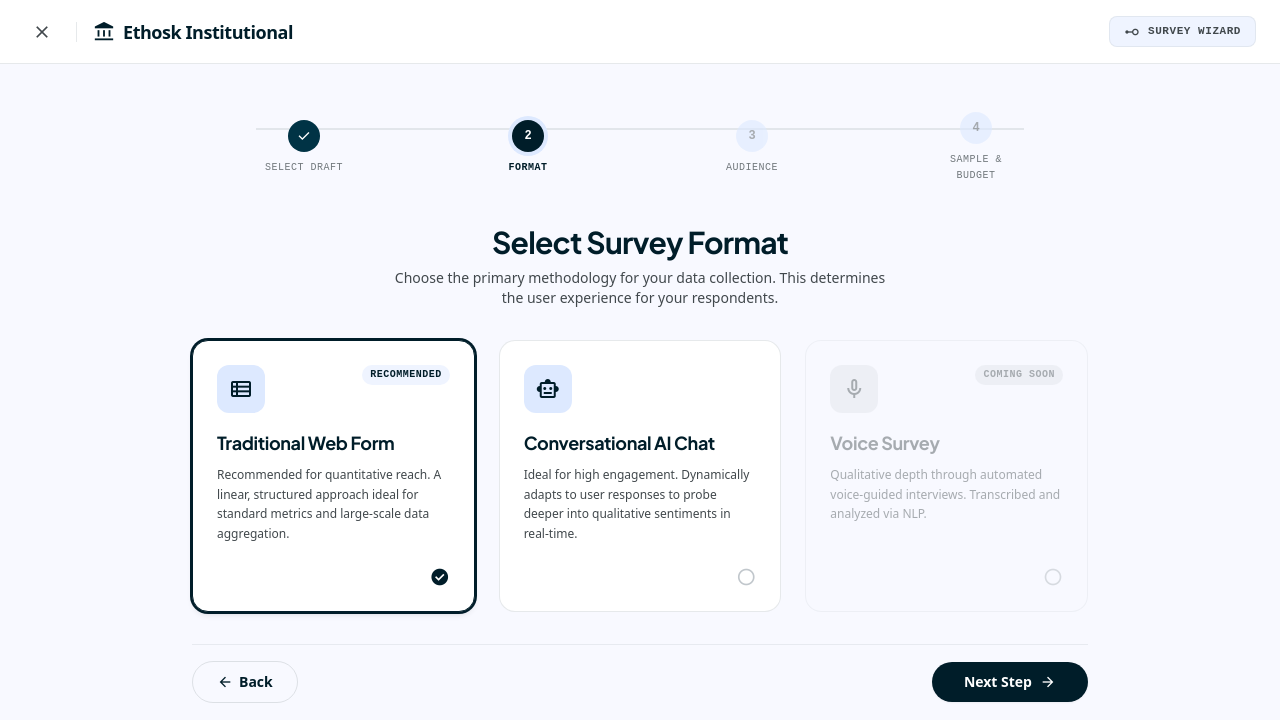
Test case: SurveyPostingWizardPage (§4.3.5–4.3.6 Survey Posting Flow) › navigates through Step 2 (Format), Step 3 (Audience Targeting), and Step 4 (Budget & Escrow)
The width and height of the screenshot is (1280, 720).
Expected: the heading "Select Survey Format" is shown, [492,223,788,261]
Expected: the heading "Traditional Web Form" is shown, [217,431,394,454]
// Advance to Step 3
Click the text "Next Step": {"x": 998, "y": 682} [964,672,1032,692]
(page scrolled)
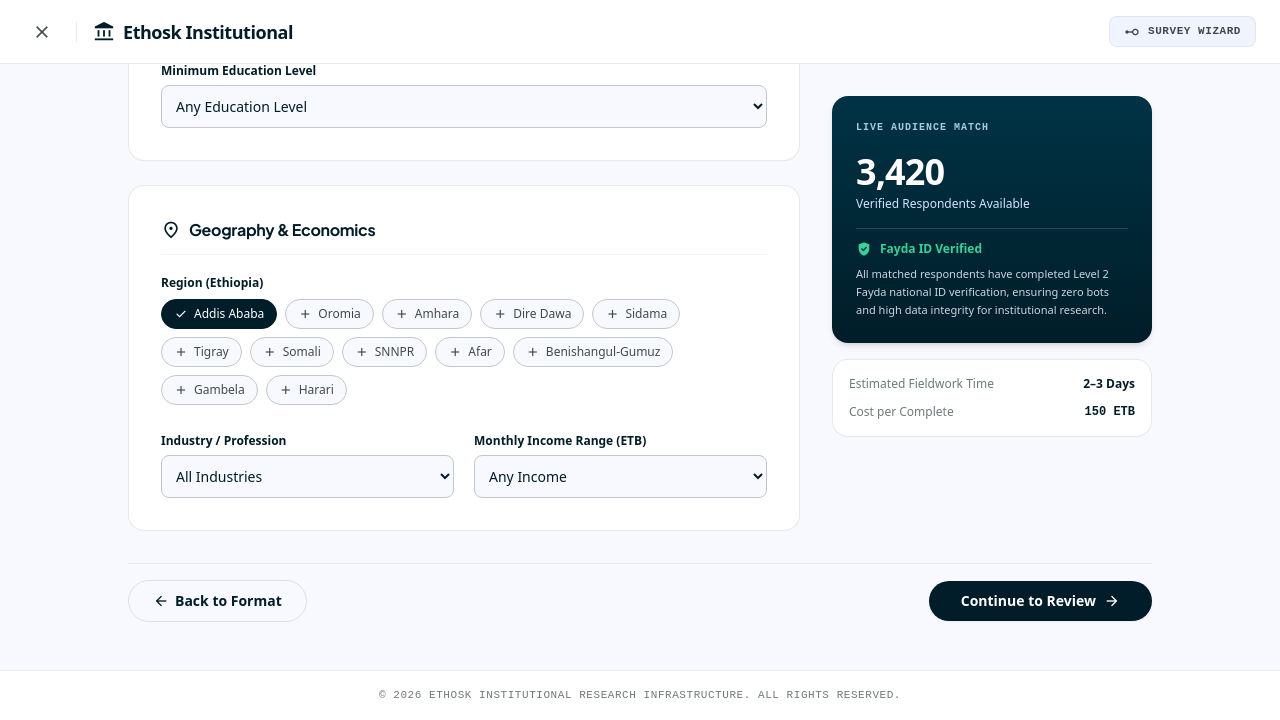
Expected: the heading "Geography & Economics" is shown, [189,218,375,242]
Expected: the text "Live Audience Match" is shown, [856,122,989,133]
// Advance to Step 4
Click the text "Continue to Review": {"x": 1028, "y": 601} [961,591,1096,611]
(page scrolled)
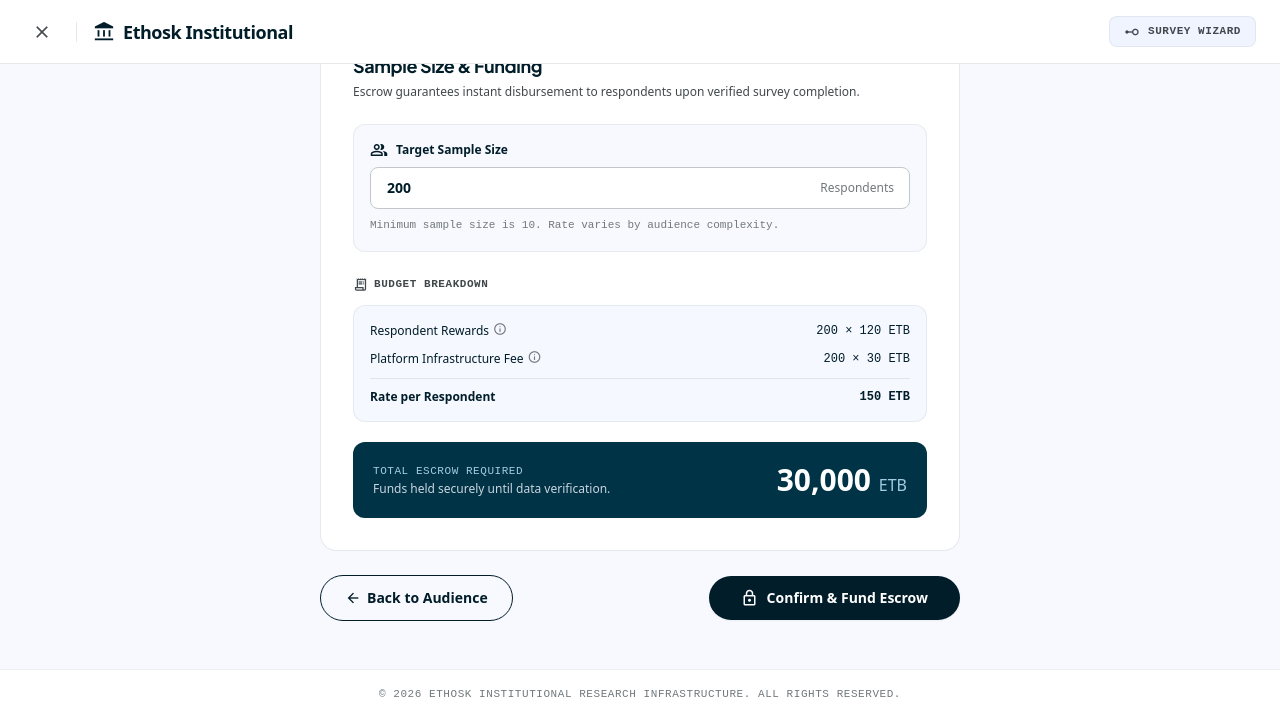
Expected: the heading "Sample Size & Funding" is shown, [353,54,542,77]
Expected: the text "Budget Breakdown" is shown, [374,276,488,293]
Expected: the text "Total Escrow Required" is shown, [373,465,523,477]
